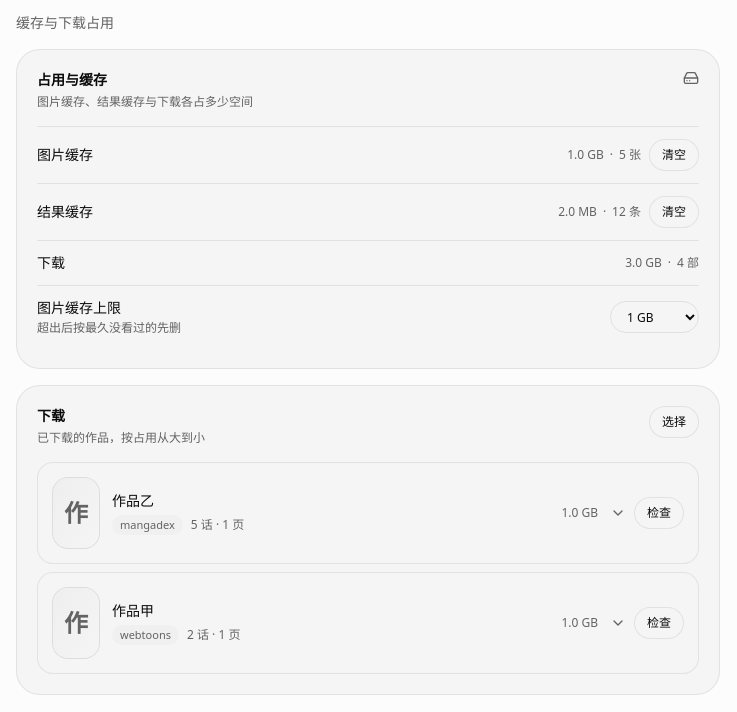
Test case: 存储页的批量删除 › 选择模式下每行出现勾选框，整行点击切换选中
Check: the text "作品甲" is shown, box [112,601,154,620]
Click the button "选择": (674, 422) [649,406,699,438]
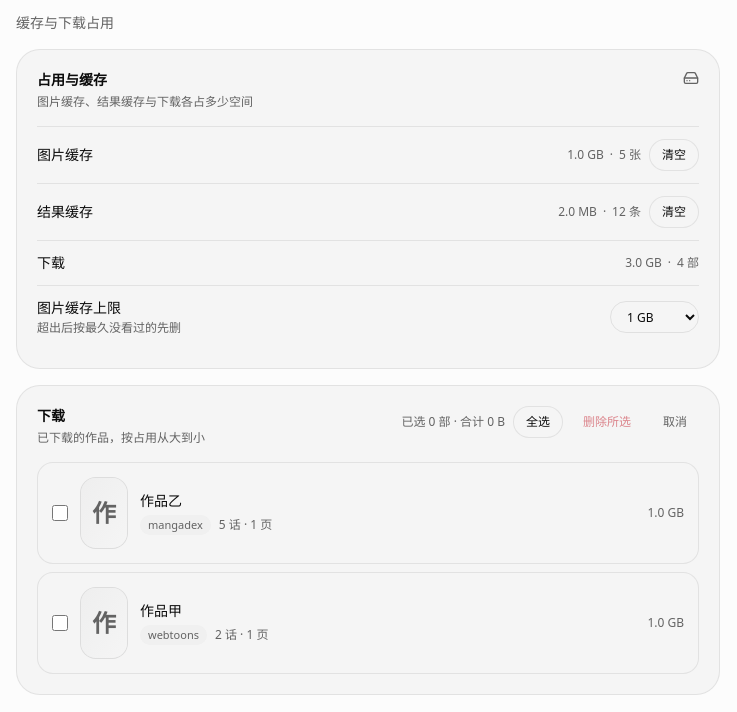
Check: the number of checkboxes is 2, box [52,505,68,521]; [52,615,68,631]
Check: the text "已选 0 部 · 合计 0 B" is shown, box [402,414,505,430]
Click the text "作品乙": (104, 513) [37,462,699,564]
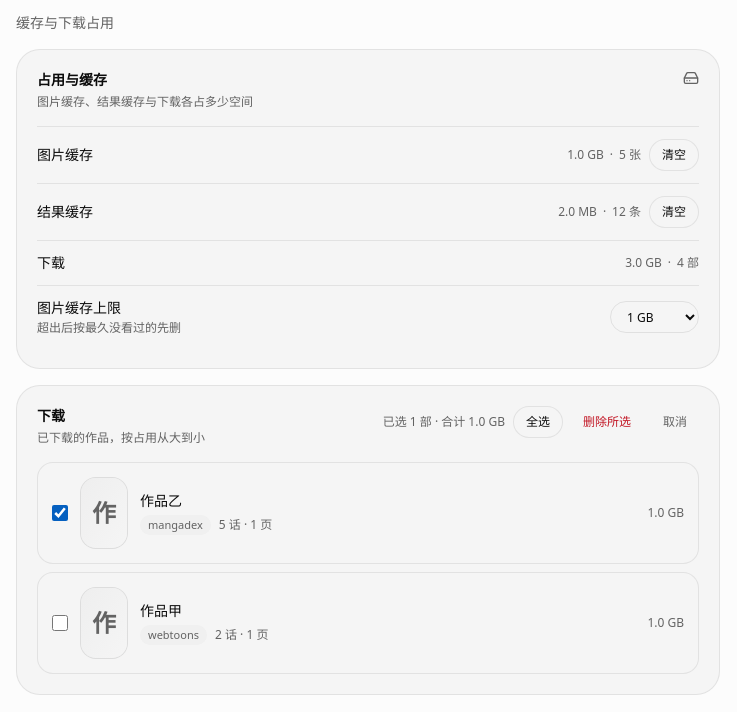
Check: the text "已选 1 部 · 合计 1.0 GB" is shown, box [383,414,505,430]
Click the text "作品乙": (104, 513) [37,462,699,564]
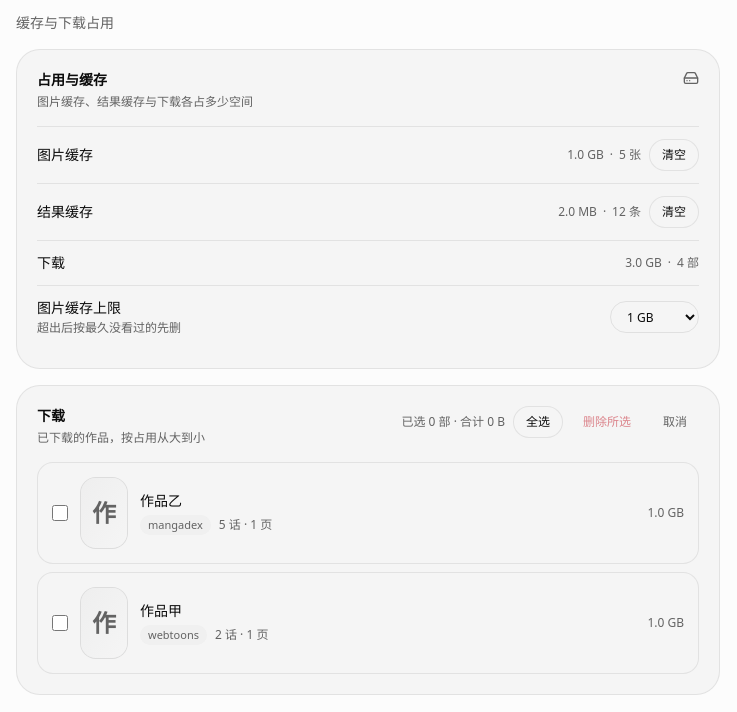
Check: the text "已选 0 部 · 合计 0 B" is shown, box [402,414,505,430]
